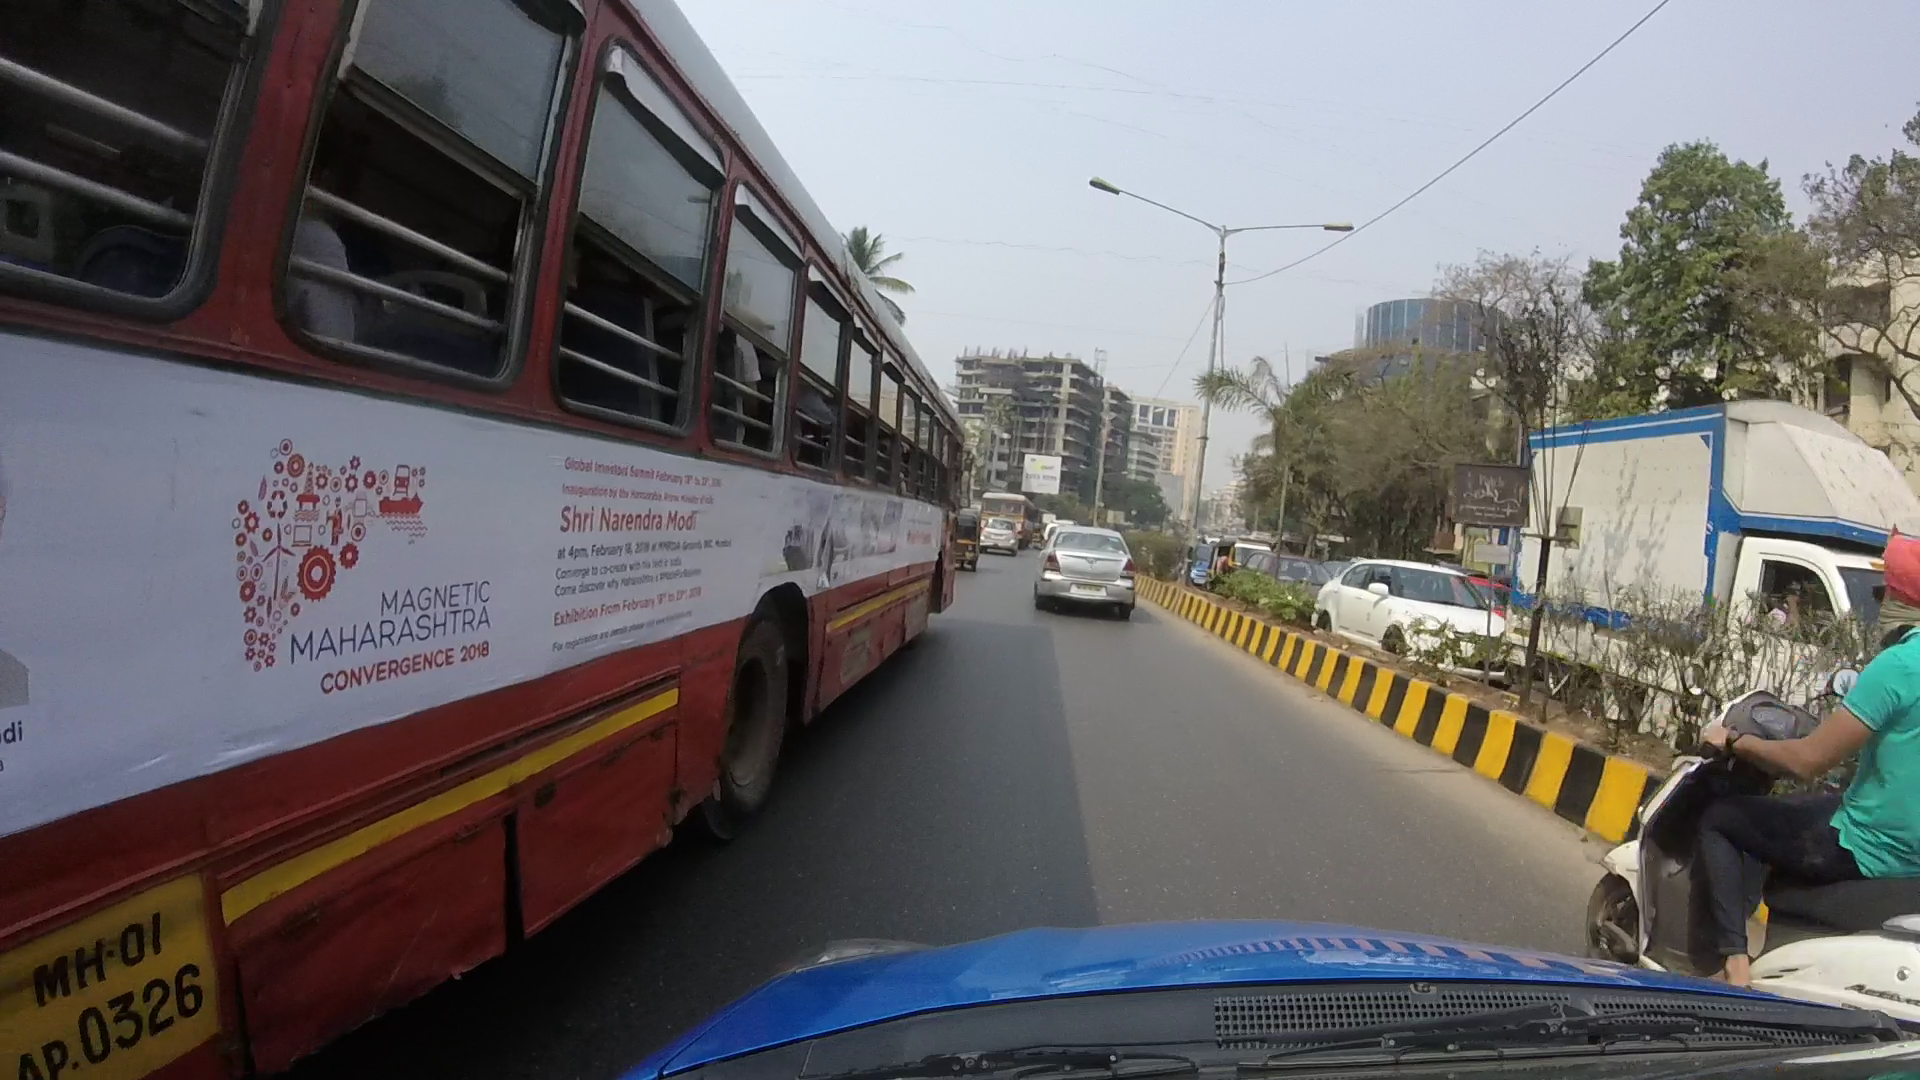bike/scooter: (1589, 584, 1920, 996)
bus: (11, 13, 989, 1075)
car: (1298, 513, 1518, 731), (1018, 510, 1151, 645)
truck: (1513, 398, 1886, 704)
